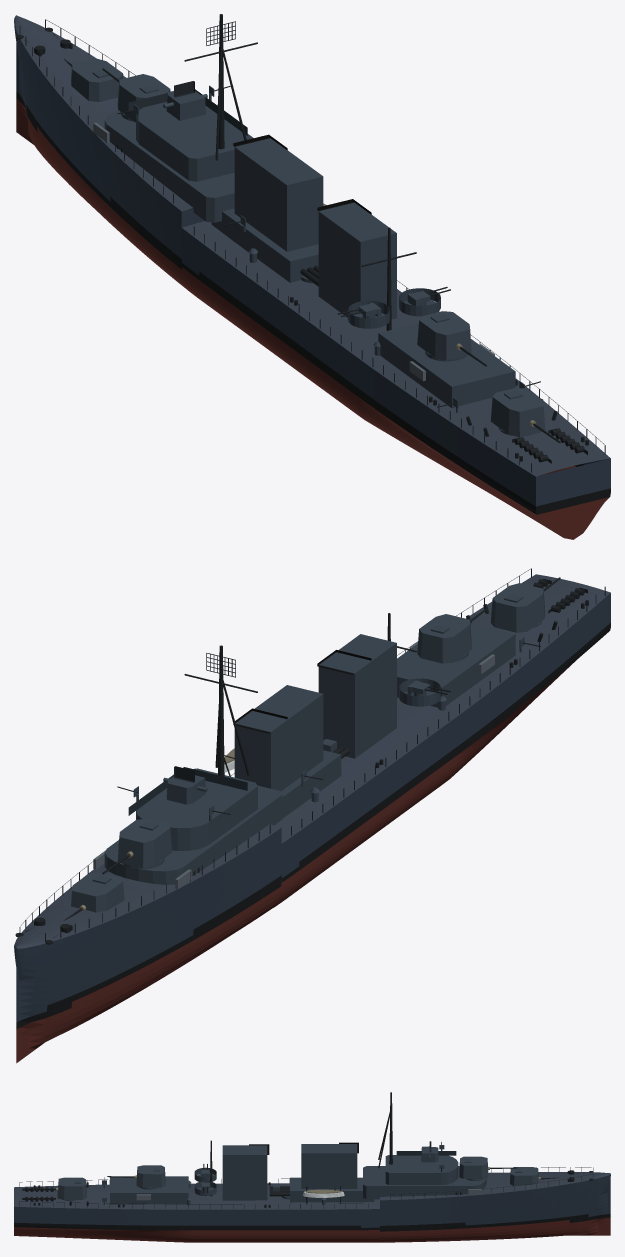
File: benson.glb
3 views of the same model, one above another, from view 1: azimuth 30°, elevation 25°; view 2: azimuth 150°, elevation 25°; view 3: azimuth 270°, elevation 25° (orthographic). The views are drawn at different scales.
Parts seen in each view (by area): view 1: Hull, Mount53, Mount54, Mount51, Mount52, Director; view 2: Hull, Mount52, Mount53, Mount54, Mount51, Director; view 3: Hull, Mount52, Mount53, Mount54, Mount51, Director, Torpedo1.
Boxes of the visible parts, left/top/right/bottom form: Hull: left=14, top=14, right=610, bottom=539; Mount53: left=417, top=311, right=486, bottom=366; Mount54: left=490, top=387, right=560, bottom=443; Mount51: left=64, top=58, right=123, bottom=101; Mount52: left=102, top=68, right=170, bottom=122; Director: left=163, top=81, right=207, bottom=120; Hull: left=14, top=568, right=610, bottom=1063; Mount52: left=102, top=819, right=172, bottom=874; Mount53: left=417, top=608, right=486, bottom=663; Mount54: left=490, top=577, right=560, bottom=632; Mount51: left=64, top=872, right=124, bottom=920; Director: left=163, top=766, right=207, bottom=804; Hull: left=14, top=1092, right=610, bottom=1242; Mount52: left=459, top=1156, right=517, bottom=1180; Mount53: left=107, top=1165, right=165, bottom=1189; Mount54: left=28, top=1177, right=86, bottom=1200; Mount51: left=510, top=1167, right=559, bottom=1185; Director: left=421, top=1141, right=438, bottom=1162; Torpedo1: left=269, top=1184, right=289, bottom=1199.
Size of the model in its own units: 12.4 by 28.1 by 106.
